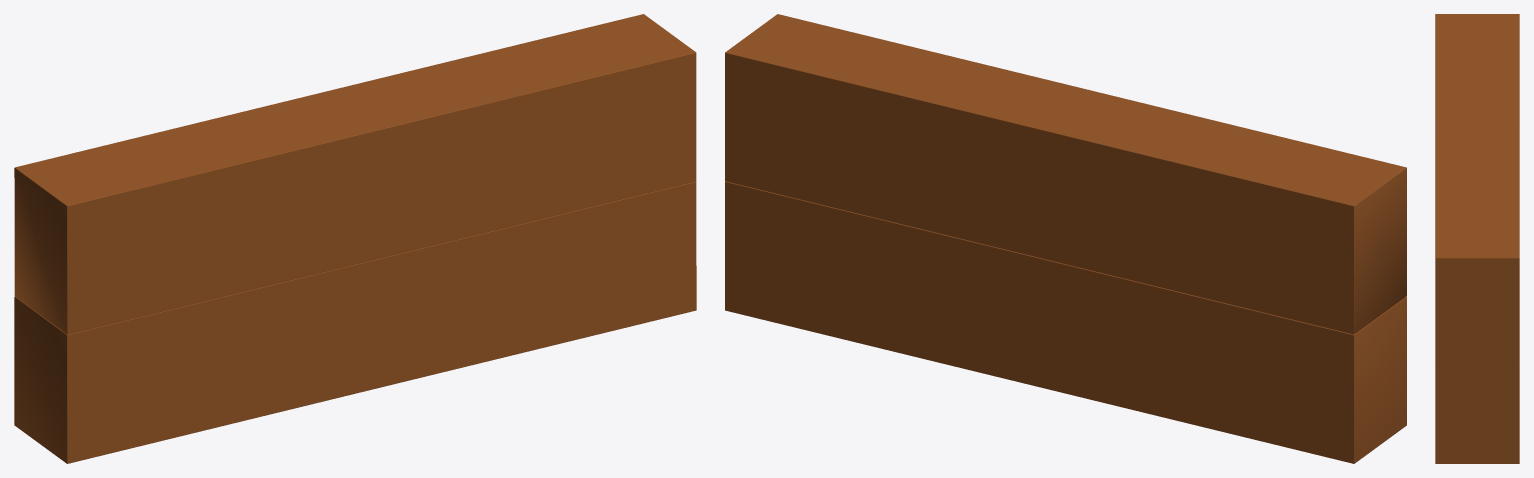
The model's file is frontbalken_start.FBX.
3 renders of one model, left to right at view 1: azimuth 30°, elevation 25°; view 2: azimuth 150°, elevation 25°; view 3: azimuth 270°, elevation 25°, orthographic. The views are drawn at different scales.
Parts seen in each view (by area): view 1: frontbalken_start; view 2: frontbalken_start; view 3: frontbalken_start.
Part boxes in pixels (<box>): frontbalken_start: <box>14,14,696,463</box>; frontbalken_start: <box>725,14,1406,463</box>; frontbalken_start: <box>1435,14,1519,463</box>.
Size of the model in its own units: 7.91 by 3.1 by 1.15.
